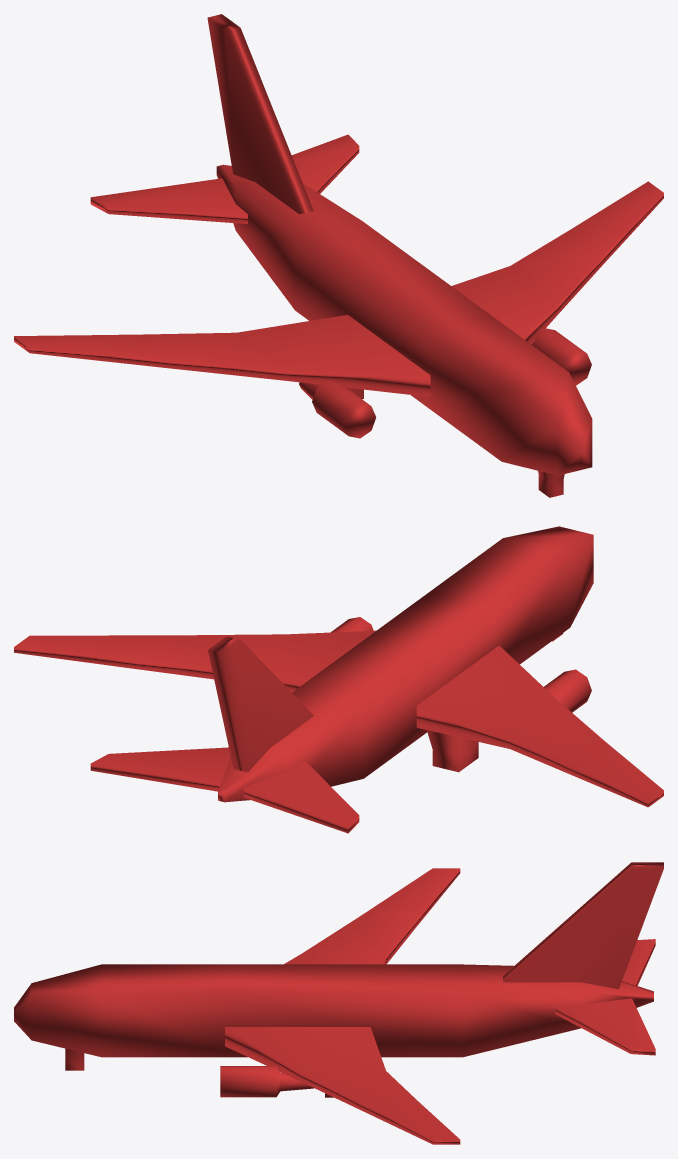
Rendered from frachtmaschine_757_colmesh.fbx.
3 renders of one model, top to bottom at view 1: azimuth 30°, elevation 25°; view 2: azimuth 150°, elevation 25°; view 3: azimuth 270°, elevation 25°, orthographic. The views are drawn at different scales.
Parts seen in each view (by area): view 1: Mesh; view 2: Mesh; view 3: Mesh.
Part boxes in pixels (left/top/right/bottom): Mesh: left=14, top=14, right=663, bottom=497; Mesh: left=14, top=526, right=663, bottom=833; Mesh: left=14, top=862, right=663, bottom=1144.
Bounding box in the file's own units: 3818 × 1326 × 3867.
